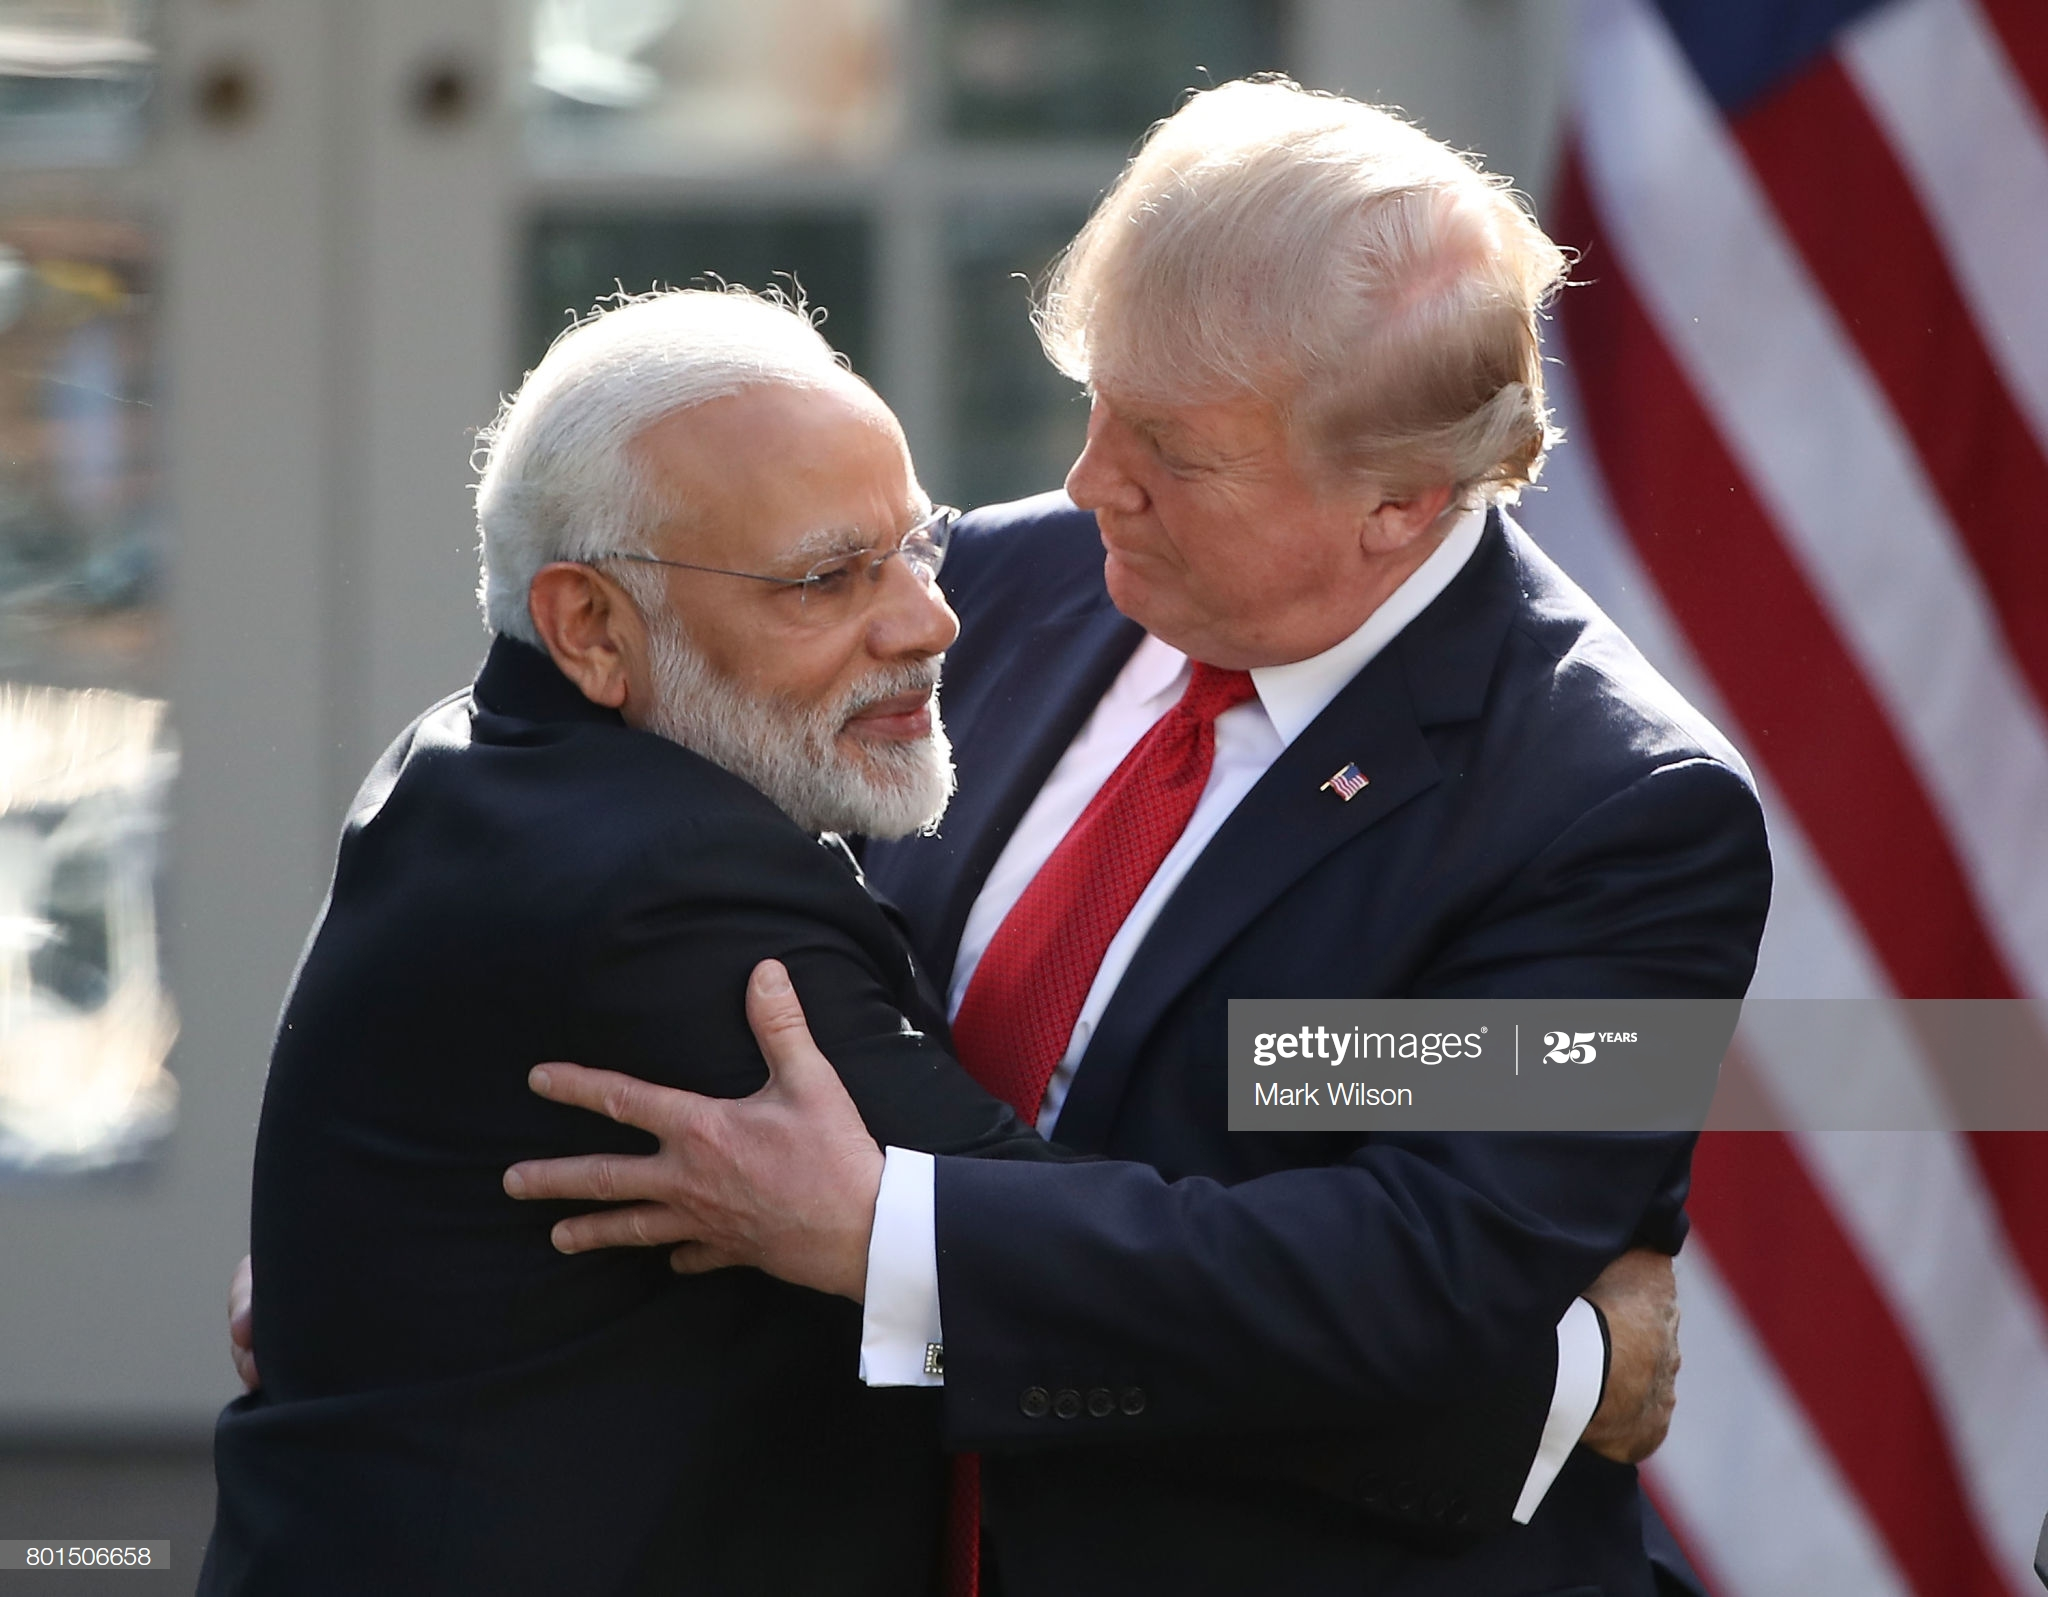modi: (416, 243, 1047, 872)
